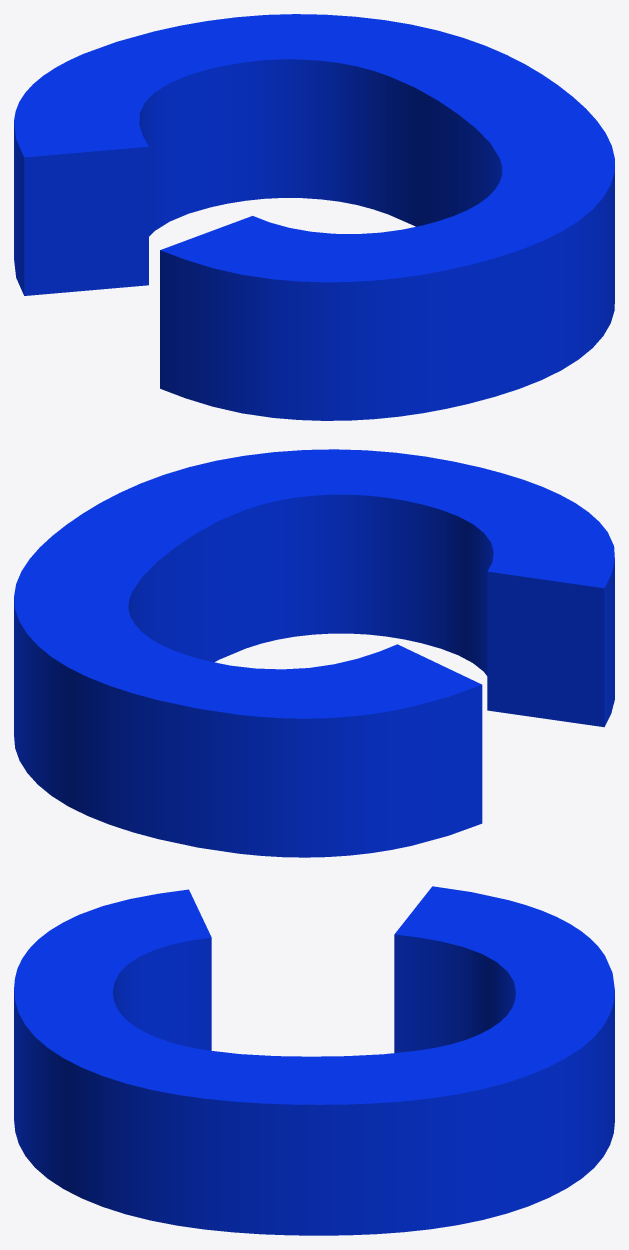
The model's file is ExpLetterC.FBX.
3 renders of one model, top to bottom at view 1: azimuth 30°, elevation 25°; view 2: azimuth 150°, elevation 25°; view 3: azimuth 270°, elevation 25°, orthographic. The views are drawn at different scales.
Parts seen in each view (by area): view 1: Saliente-Extruir1; view 2: Saliente-Extruir1; view 3: Saliente-Extruir1.
Part boxes in pixels (x1,y1,x2,y2): Saliente-Extruir1: (14,14,614,420); Saliente-Extruir1: (14,449,614,857); Saliente-Extruir1: (14,886,614,1235).
Bounding box in the file's own units: 0.4231 × 0.1181 × 0.4916.
